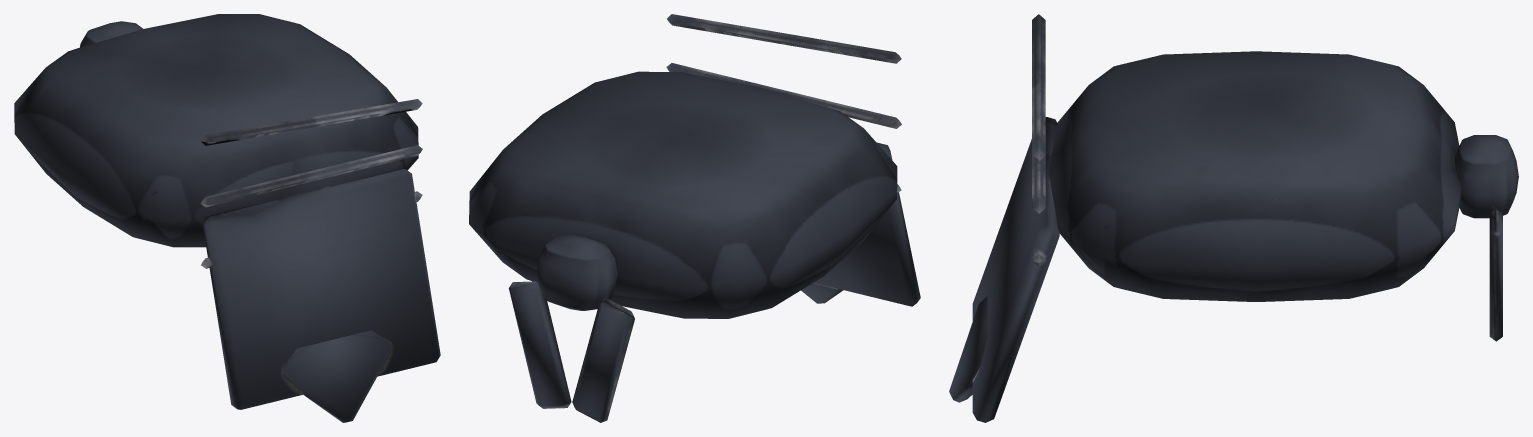
Rendered from MatonImp_Panuelo.fbx.
3 views of the same model, side by side, from view 1: azimuth 30°, elevation 25°; view 2: azimuth 150°, elevation 25°; view 3: azimuth 270°, elevation 25° (orthographic). The views are drawn at different scales.
Visible parts, largest first — view 1: MatonImp_Panuelo; view 2: MatonImp_Panuelo; view 3: MatonImp_Panuelo.
Part boxes in pixels (left/top/right/bottom): MatonImp_Panuelo: left=14, top=14, right=440, bottom=422; MatonImp_Panuelo: left=469, top=14, right=920, bottom=422; MatonImp_Panuelo: left=949, top=14, right=1518, bottom=422.
Size of the model in its own units: 1.31 by 1.14 by 1.8.
